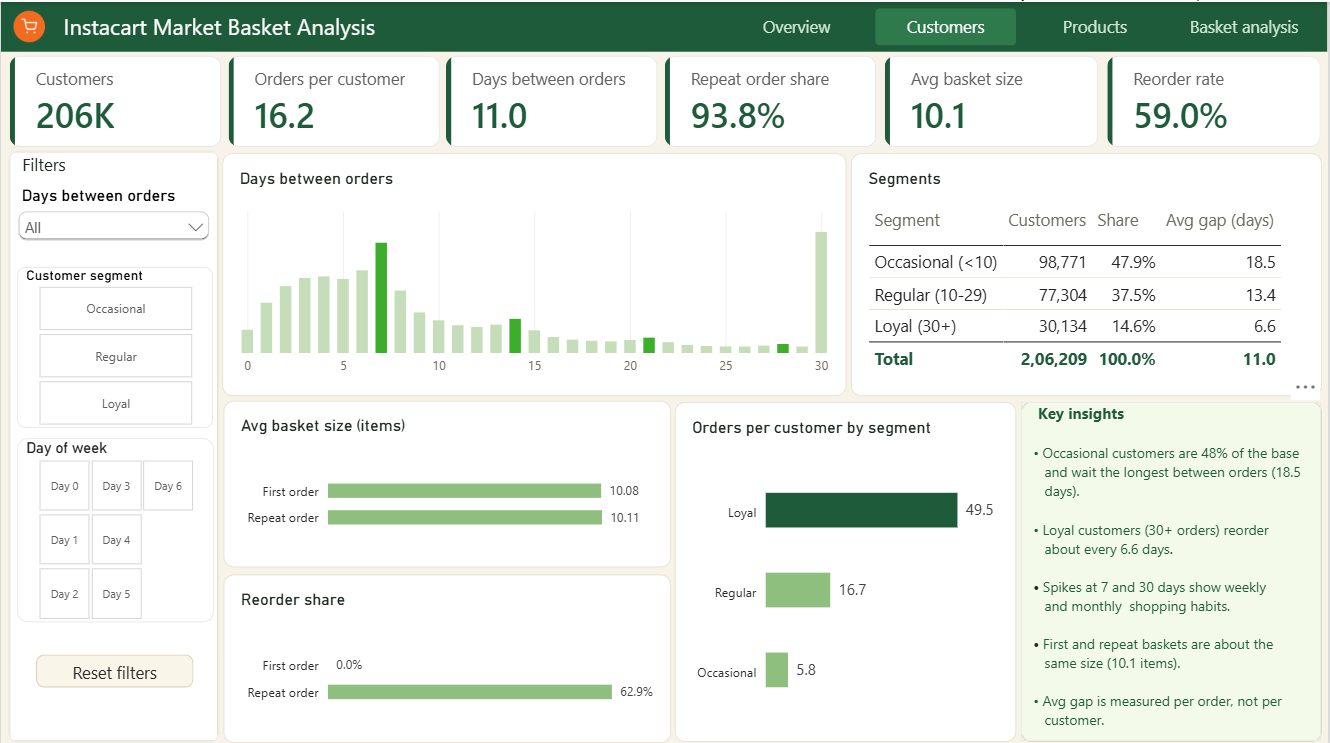

This screenshot's page, from the dashboard's own definition file:
{"tool":"powerbi","page":{"name":"Customers","canvas":[1280,720],"ordinal":1},"visuals":[{"type":"shape","box":[0,0,1280,48],"z":0},{"type":"pageNavigator","box":[700,6,568,36],"z":1000},{"type":"textbox","box":[60,8,422.3,30],"z":2000},{"type":"cardVisual","fields":{"Data":["fact_orders.Customers"]},"box":[8.4,51.9,204,88.1],"z":3000},{"type":"cardVisual","fields":{"Data":["fact_orders.Orders per Customer"]},"box":[220,52,204,88.1],"z":4000},{"type":"cardVisual","fields":{"Data":["fact_orders.Avg Days Between Orders"]},"box":[430,51.9,204,88.1],"z":5000},{"type":"cardVisual","fields":{"Data":["fact_orders.Repeat Order Share"]},"box":[641,51.9,204,88.1],"z":6000},{"type":"cardVisual","fields":{"Data":["fact_orders.Avg Basket Size"]},"box":[853,51.9,206.3,88.1],"z":7000},{"type":"cardVisual","fields":{"Data":["fact_orders.Reorder Rate"]},"box":[1068,51.9,206,88.1],"z":8000},{"type":"clusteredColumnChart","title":"Days between orders","fields":{"Category":["fact_gap.gap_days"],"Y":["Sum(fact_gap.orders)"]},"box":[213,146,602.7,234.6],"z":9000},{"type":"tableEx","title":"Segments","fields":{"Values":["dim_segment.segment","fact_orders.Customers","fact_orders.Customer Share","fact_gap.Avg Gap Days"]},"box":[820,146,454,234.6],"z":10000},{"type":"textbox","box":[984.5,385.6,290,328],"z":11000},{"type":"clusteredBarChart","title":"Orders per customer by segment","fields":{"Category":["dim_segment.Segment Short"],"Y":["fact_orders.Orders per Customer"]},"box":[650,385.6,329.4,328],"z":12000},{"type":"clusteredBarChart","title":"Avg basket size (items)","fields":{"Category":["fact_orders.Order Kind"],"Y":["fact_orders.Avg Basket Size"]},"box":[215,385,432,161],"z":13000},{"type":"clusteredBarChart","title":"Reorder share","fields":{"Category":["fact_orders.Order Kind"],"Y":["fact_orders.Order Reorder Share"]},"box":[215,552,432,162.2],"z":14000},{"type":"shape","box":[7.6,144.1,203.5,571],"z":15000},{"type":"textbox","box":[20,146,120,24],"z":16000},{"type":"slicer","fields":{"Values":["dim_segment.Segment Short"]},"box":[16.2,256.2,188.8,155],"z":17000},{"type":"slicer","fields":{"Values":["dim_day.day_label"]},"box":[15.7,421,189.4,177.3],"z":18000},{"type":"actionButton","box":[33.8,629.8,152,32],"z":19000},{"type":"slicer","fields":{"Values":["fact_gap.gap_days"]},"box":[12,177,193.4,69.9],"z":20000},{"type":"image","box":[12,9,30,30],"z":21000}]}

Visuals, with their boxes in screenshot pixels (x1, y1, x2, y2), scaled from the page's 1280x720 canvas onto the 1330x743 screenshot:
shape: 0 0 1329 50
pageNavigator: 727 6 1318 43
textbox: 62 8 501 39
cardVisual - fact_orders.Customers: 9 54 221 144
cardVisual - fact_orders.Orders per Customer: 229 54 441 145
cardVisual - fact_orders.Avg Days Between Orders: 447 54 659 144
cardVisual - fact_orders.Repeat Order Share: 666 54 878 144
cardVisual - fact_orders.Avg Basket Size: 886 54 1101 144
cardVisual - fact_orders.Reorder Rate: 1110 54 1324 144
"Days between orders" clusteredColumnChart: 221 151 848 393
"Segments" tableEx: 852 151 1324 393
textbox: 1023 398 1324 736
"Orders per customer by segment" clusteredBarChart: 675 398 1018 736
"Avg basket size (items)" clusteredBarChart: 223 397 672 563
"Reorder share" clusteredBarChart: 223 570 672 737
shape: 8 149 219 738
textbox: 21 151 145 175
slicer - dim_segment.Segment Short: 17 264 213 424
slicer - dim_day.day_label: 16 434 213 617
actionButton: 35 650 193 683
slicer - fact_gap.gap_days: 12 183 213 255
image: 12 9 44 40
